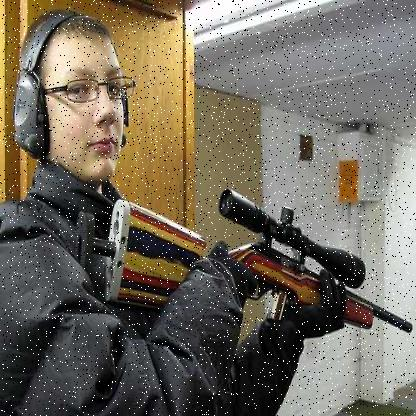rifle: (68, 171, 416, 358)
